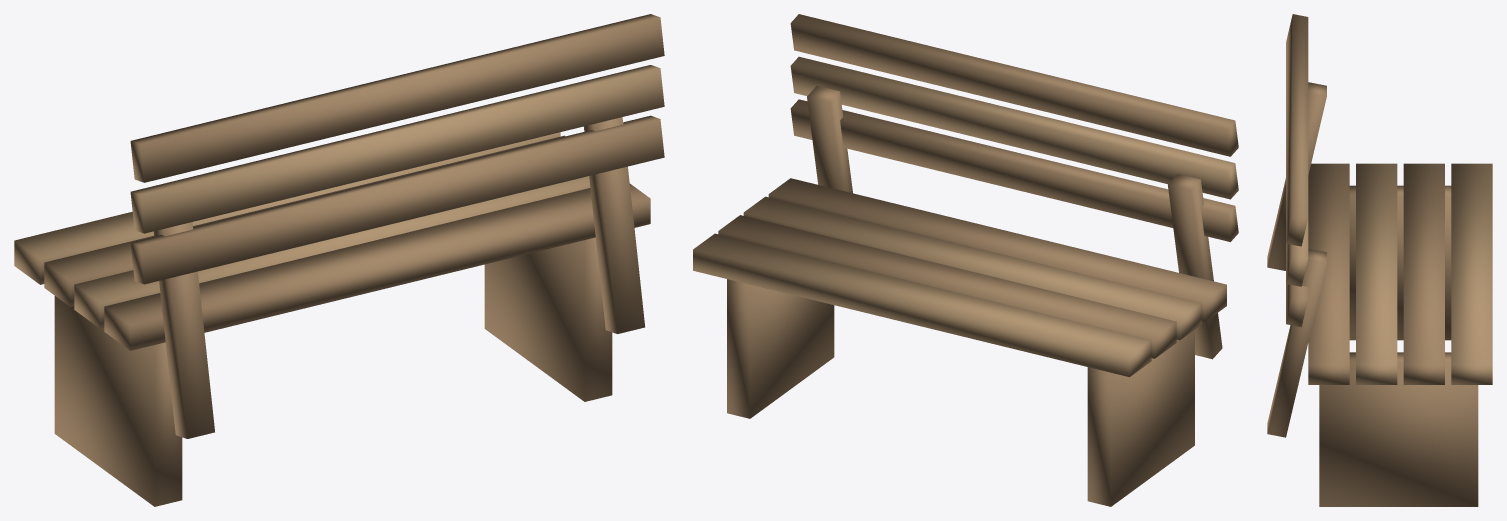
File: bench_lite.glb
3 renders of one model, left to right at view 1: azimuth 30°, elevation 25°; view 2: azimuth 150°, elevation 25°; view 3: azimuth 270°, elevation 25°, orthographic. The views are drawn at different scales.
Parts seen in each view (by area): view 1: Cube; view 2: Cube; view 3: Cube.
Boxes of the visible parts, bbox=[...] form: Cube: bbox=[14, 14, 664, 506]; Cube: bbox=[693, 14, 1238, 506]; Cube: bbox=[1267, 14, 1492, 506].
Size of the model in its own units: 1.5 by 1.05 by 0.7088.
